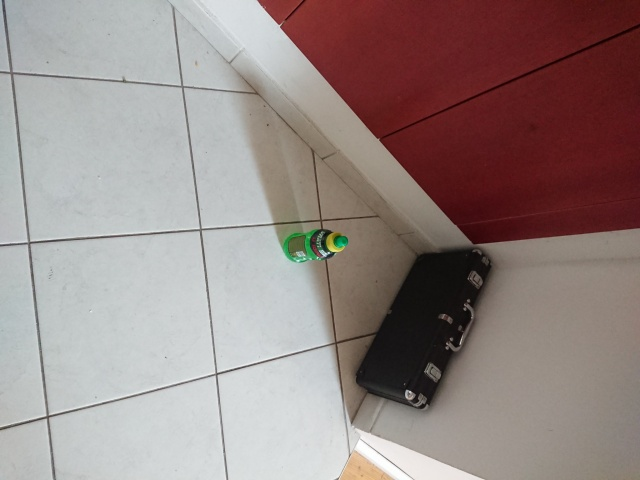Vindi Iso Sport Lemon-Grapefruit 500mL: (280, 226, 351, 265)
